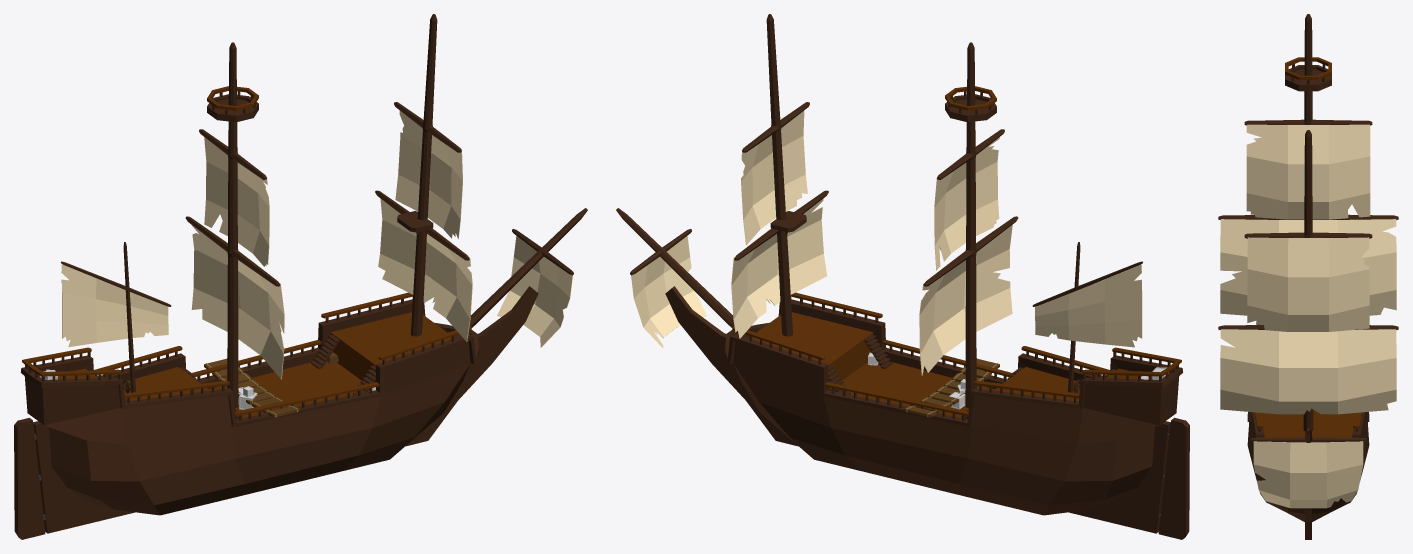
File: Bridge.fbx
The picture shows the model from 3 angles, left to right: view 1: azimuth 30°, elevation 25°; view 2: azimuth 150°, elevation 25°; view 3: azimuth 270°, elevation 25°; orthographic projection. The views are drawn at different scales.
Visible parts, largest first — view 1: Cube.006, Cube.003, Cube.004; view 2: Cube.006, Cube.003, Cube.004; view 3: Cube.006, Cube.004, Cube.001.
Boxes of the visible parts, x1=… form: Cube.006: x1=14, y1=14, x2=587, y2=539; Cube.003: x1=204, y1=358, x2=299, y2=417; Cube.004: x1=207, y1=91, x2=258, y2=122; Cube.006: x1=616, y1=14, x2=1189, y2=539; Cube.003: x1=904, y1=358, x2=999, y2=417; Cube.004: x1=945, y1=91, x2=996, y2=122; Cube.006: x1=1218, y1=14, x2=1398, y2=539; Cube.004: x1=1285, y1=64, x2=1331, y2=91; Cube.001: x1=1285, y1=57, x2=1331, y2=79.
Bounding box in the file's own units: 2581 × 6842 × 9222.
